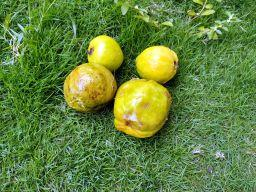guava: (113, 76, 174, 140), (64, 61, 119, 114), (134, 45, 181, 82), (85, 33, 125, 71)
